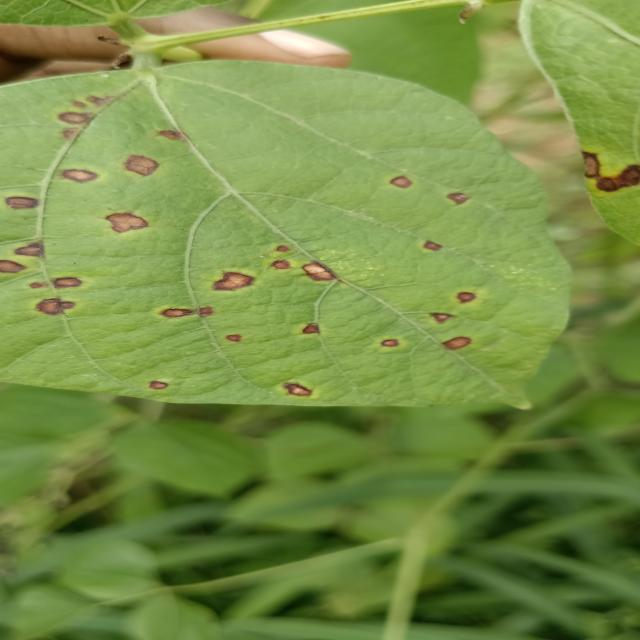Dolicos bean_cercospora leaf spot: (1, 63, 587, 412)
